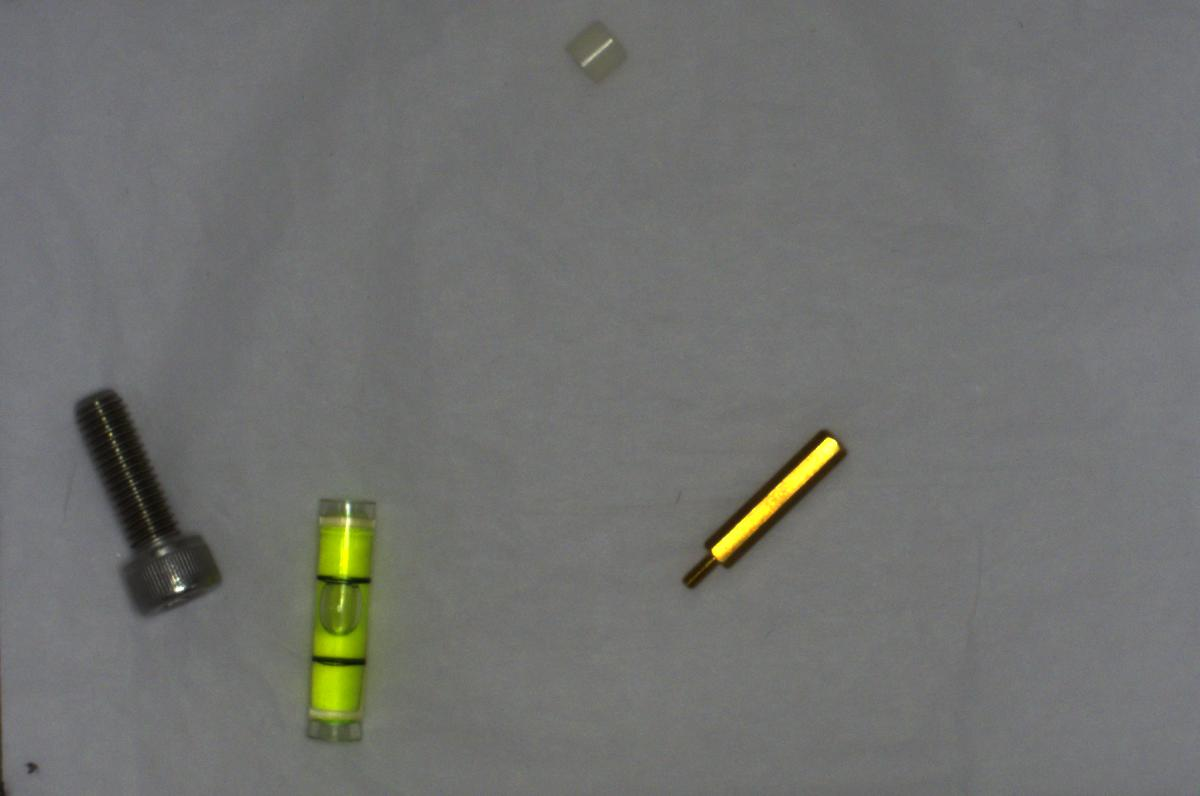Hexagon pillar: (677, 426, 860, 587)
Hexagon screw: (60, 378, 226, 619)
Horizontal bubble: (290, 483, 390, 755)
Plastic cushion pillar: (557, 18, 626, 86)
